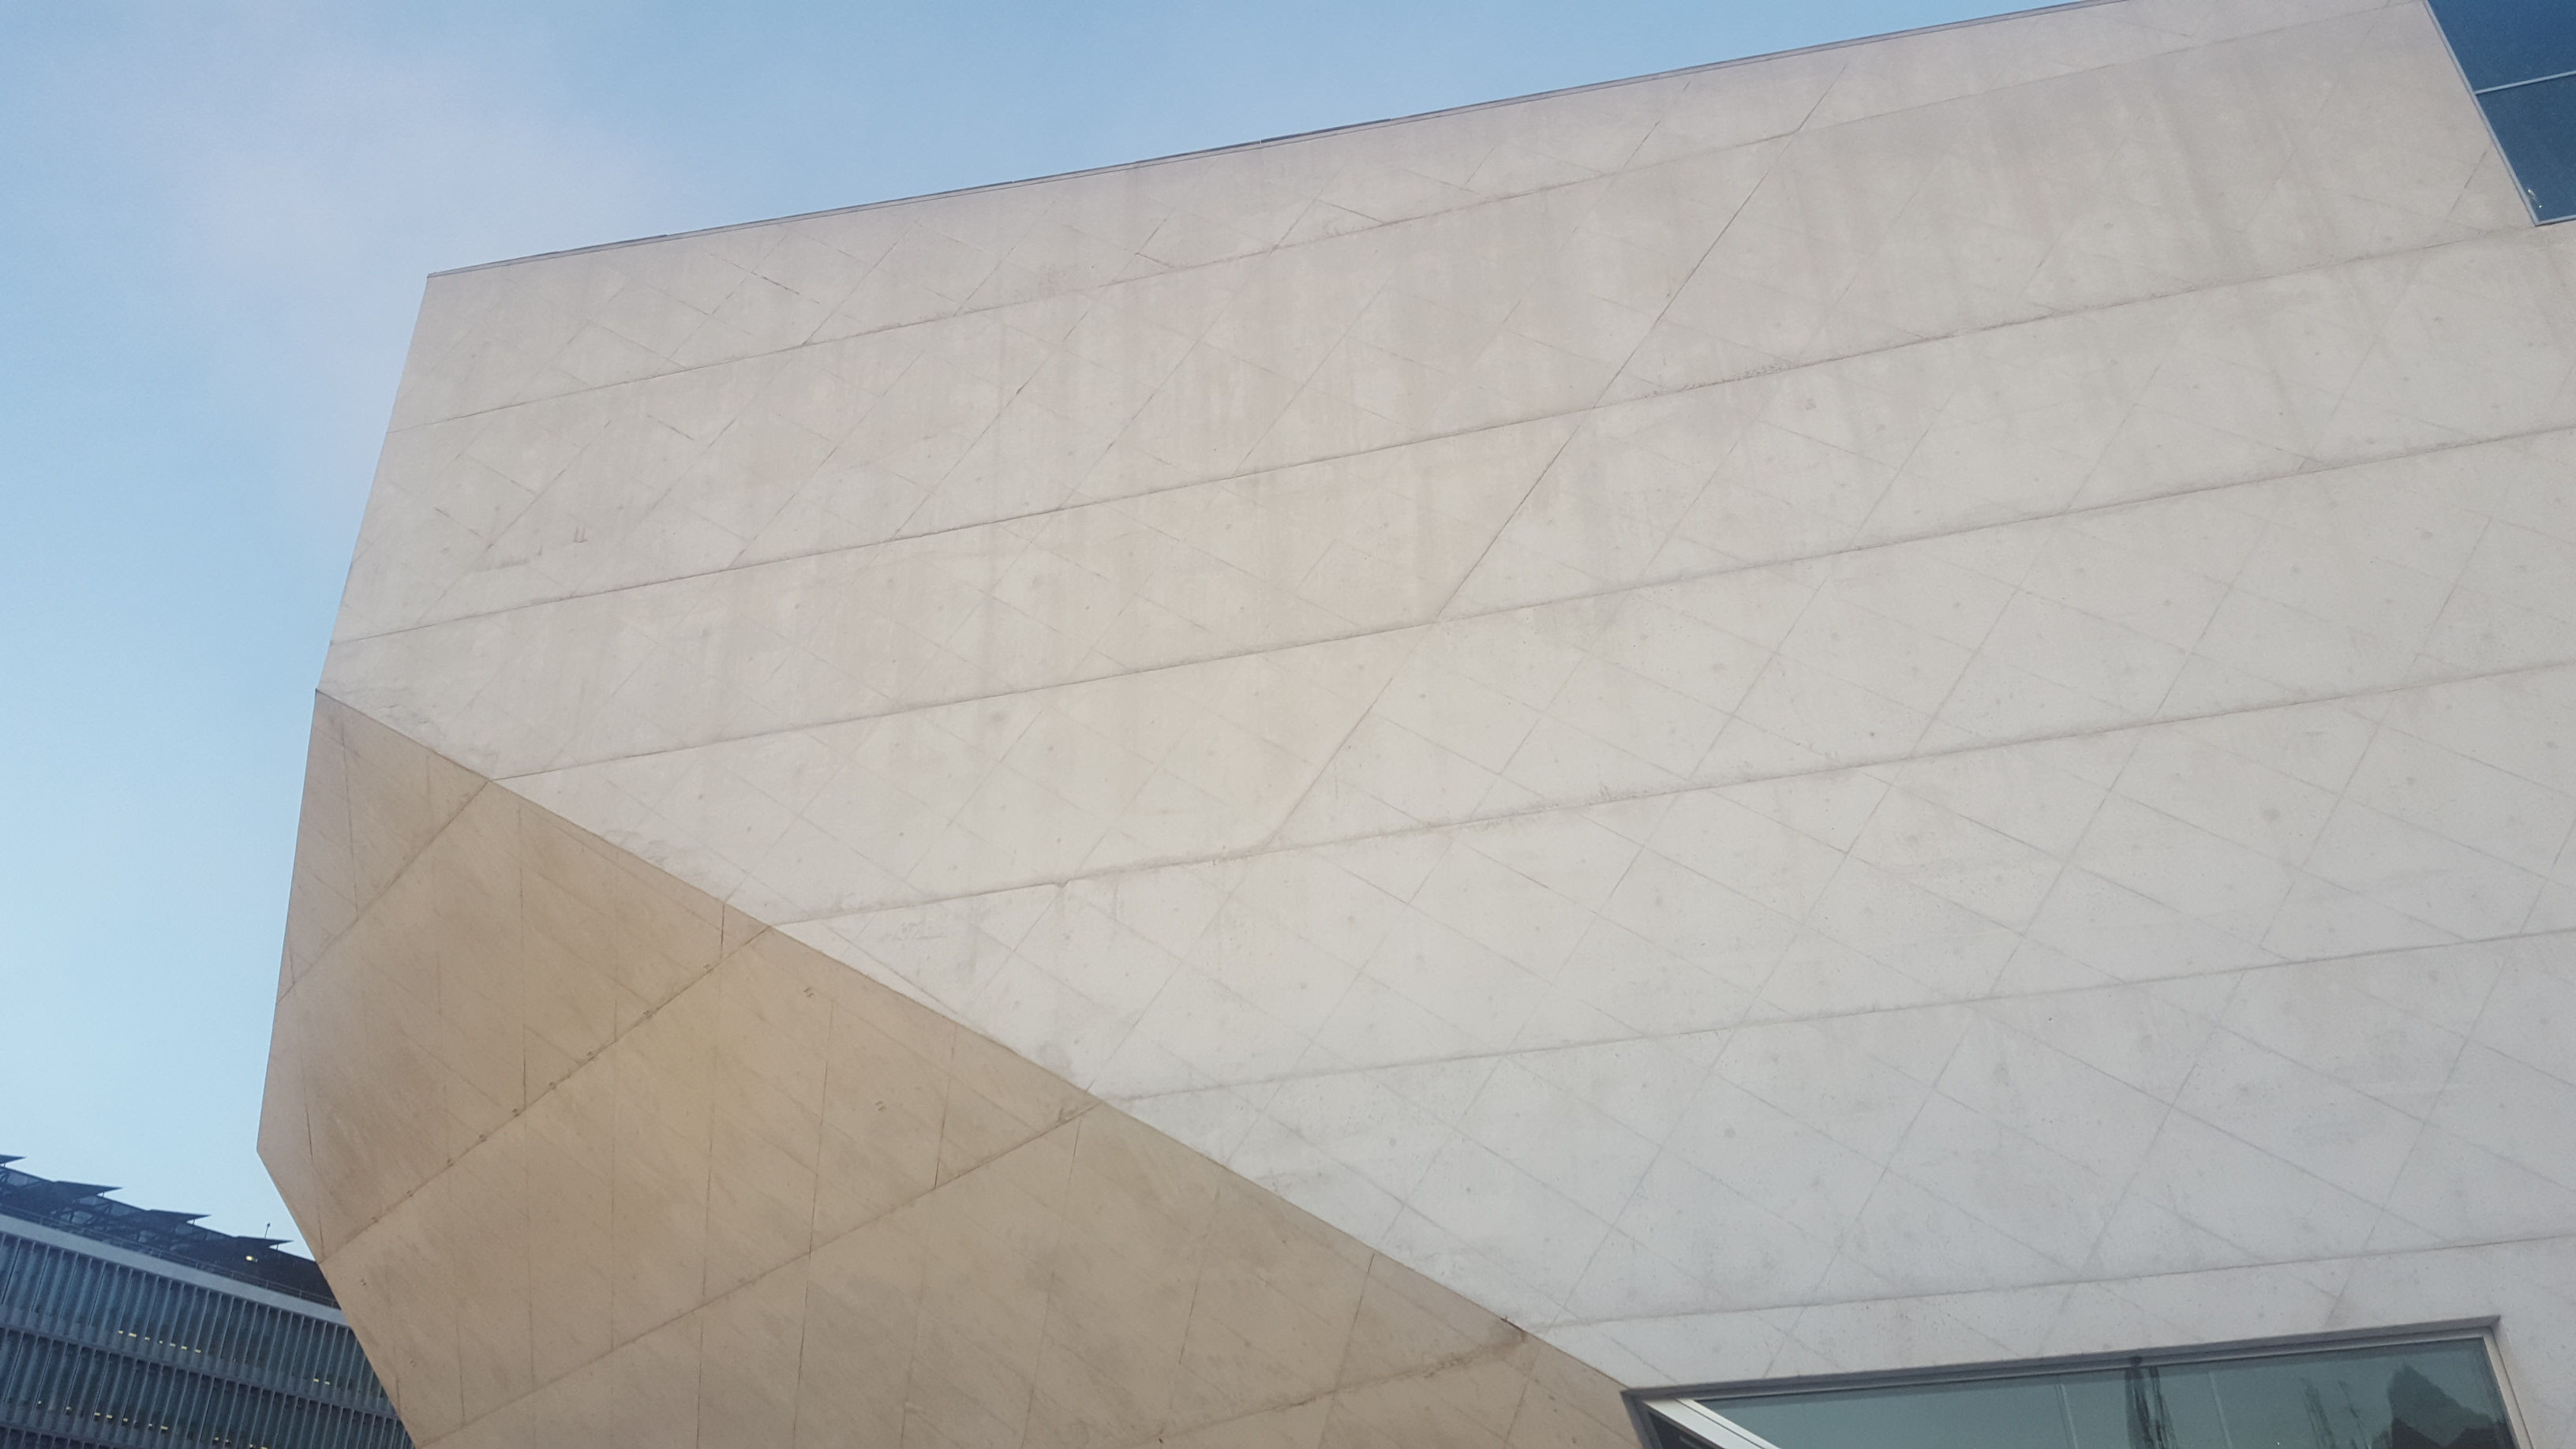musica: (237, 0, 2576, 1440)
